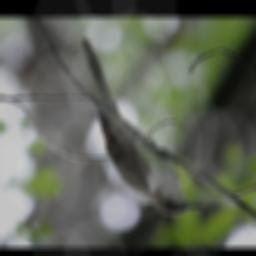Cuckoo: (76, 35, 205, 218)
